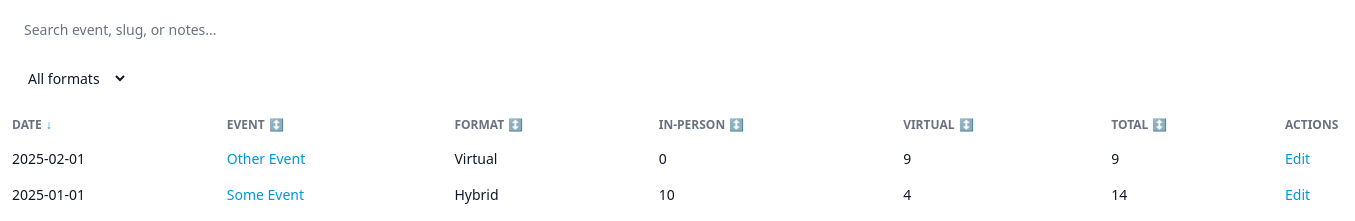
Test: AttendanceTable › filters records by search term across title, slug, and notes
In the field with placeholder "Search event, slug, or notes...": (172, 30) [12, 12, 332, 48], type "guest"
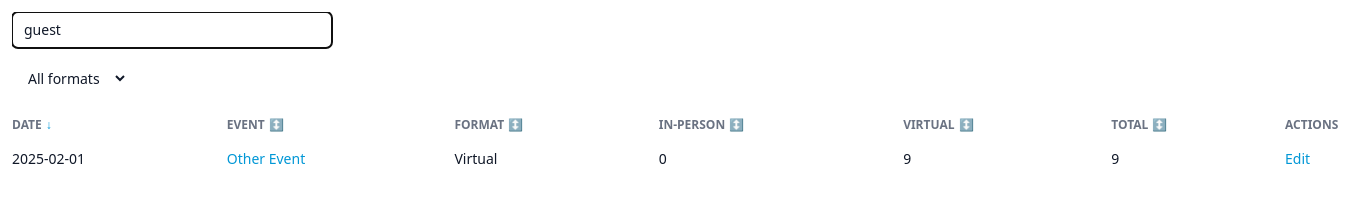
Expected: the link "Other Event" is shown, [227, 149, 305, 168]
Expected: the link "Some Event" is gone
